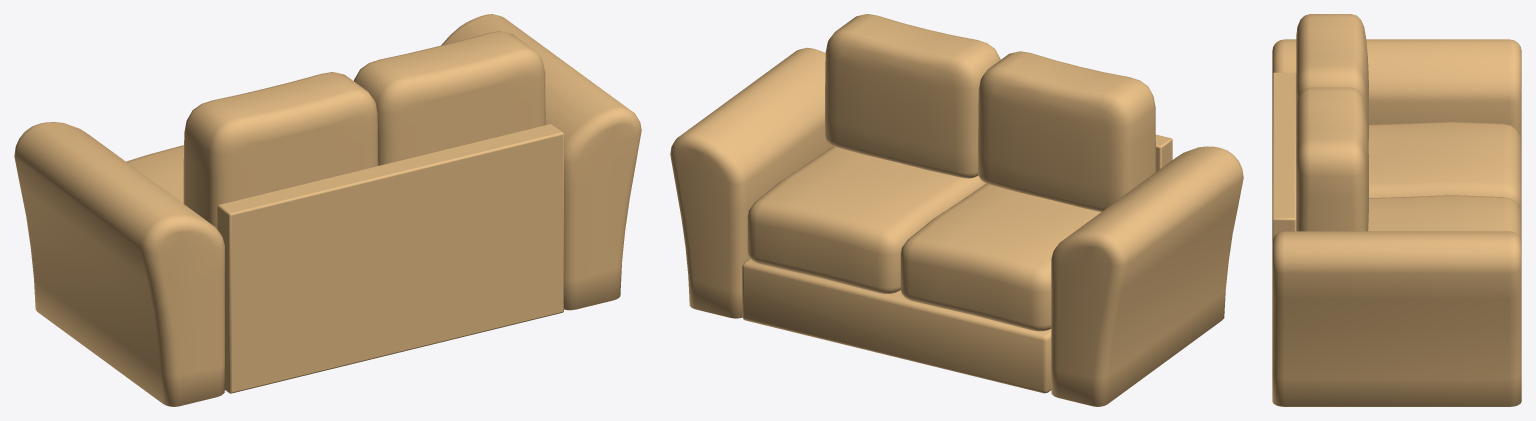
File: Couch1.fbx
3 renders of one model, left to right at view 1: azimuth 30°, elevation 25°; view 2: azimuth 150°, elevation 25°; view 3: azimuth 270°, elevation 25°, orthographic. The views are drawn at different scales.
Visible parts, largest first — view 1: Couch1; view 2: Couch1; view 3: Couch1.
Part boxes in pixels (x1=…): Couch1: x1=14, y1=14, x2=641, y2=406; Couch1: x1=670, y1=14, x2=1243, y2=406; Couch1: x1=1272, y1=14, x2=1521, y2=406.
Size of the model in its own units: 2.2 by 1.07 by 1.06.
